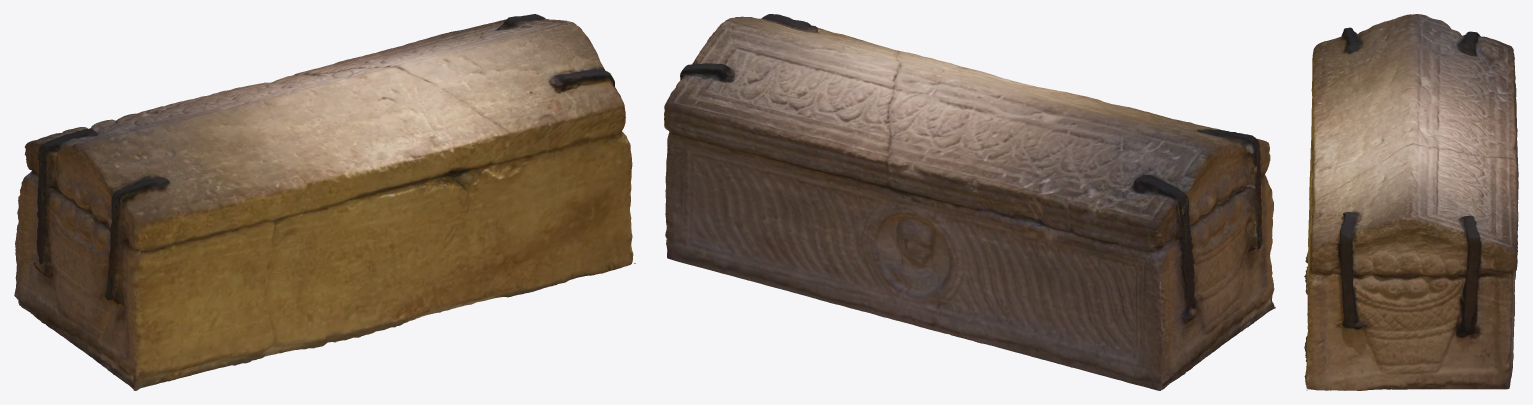
File: preview.glb
3 renders of one model, left to right at view 1: azimuth 30°, elevation 25°; view 2: azimuth 150°, elevation 25°; view 3: azimuth 270°, elevation 25°, orthographic. The views are drawn at different scales.
Parts seen in each view (by area): view 1: Object_2; view 2: Object_2; view 3: Object_2.
Part boxes in pixels (bbox=[...]): Object_2: bbox=[14, 14, 635, 390]; Object_2: bbox=[664, 14, 1275, 390]; Object_2: bbox=[1304, 14, 1518, 390].
Size of the model in its own units: 8.03 by 3.13 by 3.35.
Materials: 1 (1 with a texture image).
